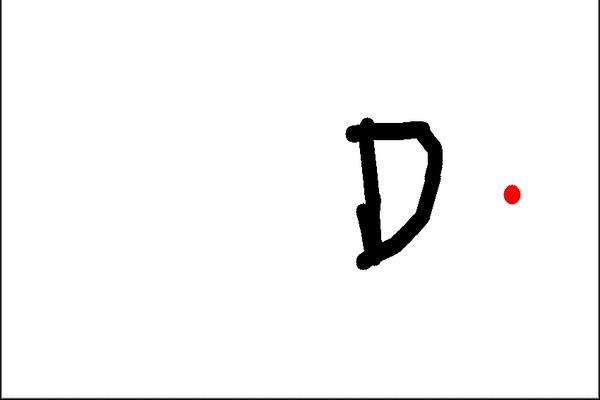D: (340, 114, 447, 272)
